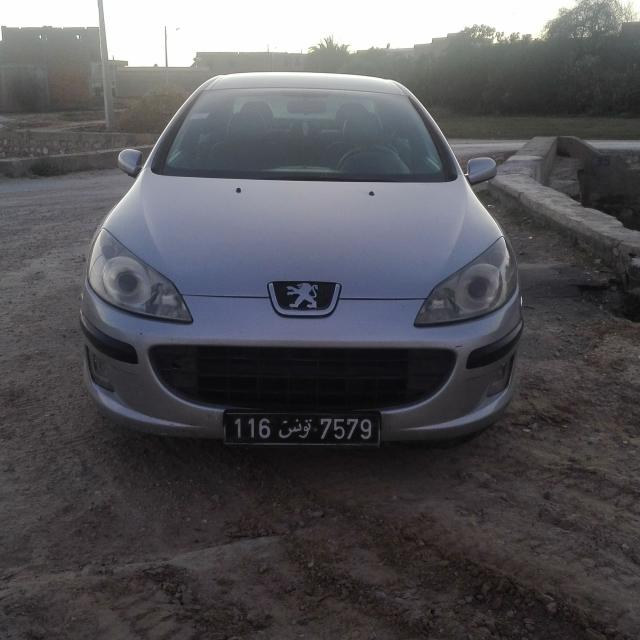LP: (223, 411, 381, 445)
